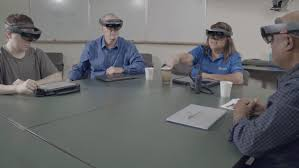hololens: (259, 22, 297, 48), (6, 23, 41, 45), (206, 27, 235, 43), (97, 17, 124, 31)
